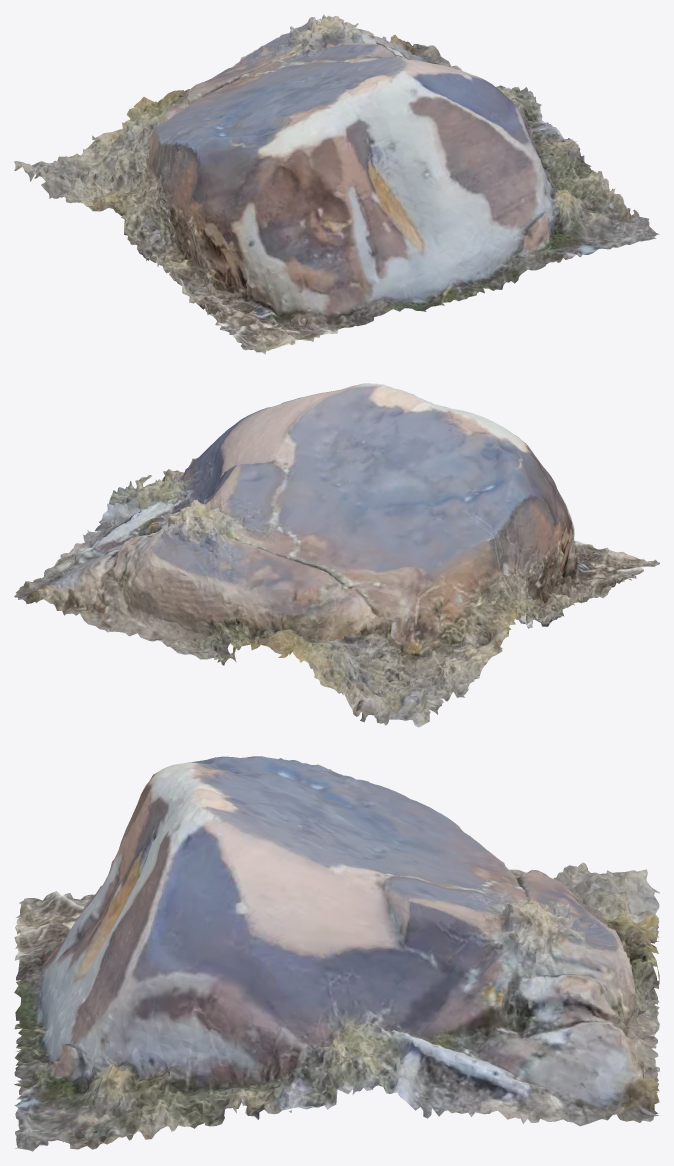
Rendered from rock.glb.
3 views of the same model, one above another, from view 1: azimuth 30°, elevation 25°; view 2: azimuth 150°, elevation 25°; view 3: azimuth 270°, elevation 25° (orthographic). The views are drawn at different scales.
Visible parts, largest first — view 1: Utah_Rock_Art_medium_res_0; view 2: Utah_Rock_Art_medium_res_0; view 3: Utah_Rock_Art_medium_res_0.
Part boxes in pixels (x1=…): Utah_Rock_Art_medium_res_0: x1=14, y1=14, x2=659, y2=354; Utah_Rock_Art_medium_res_0: x1=14, y1=383, x2=659, y2=727; Utah_Rock_Art_medium_res_0: x1=14, y1=756, x2=659, y2=1151.
Bounding box in the file's own units: 13.95 × 5.73 × 13.86.
Materials: 1 (1 with a texture image).
